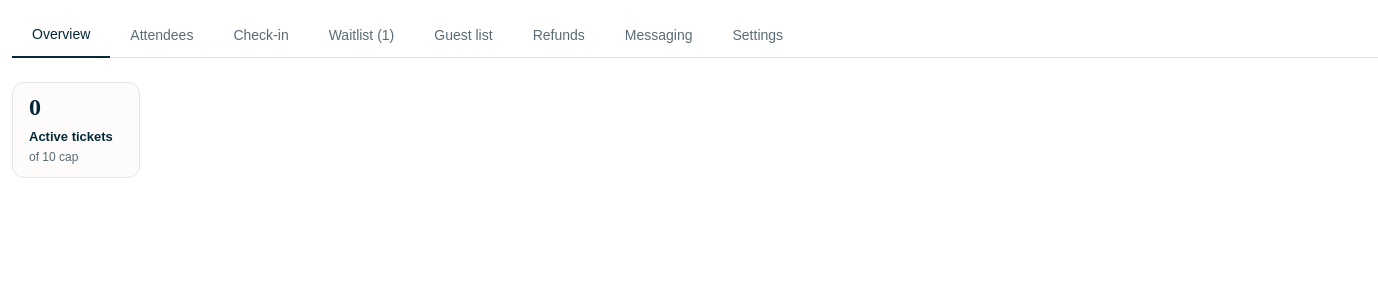
Scenario: ManageEventTabs — Waitlist tab: Offer / Resend › offers an offerable entry and shows the offered state after success
Click the button "Waitlist (1)".
click(362, 34)  # box [309,12,414,57]
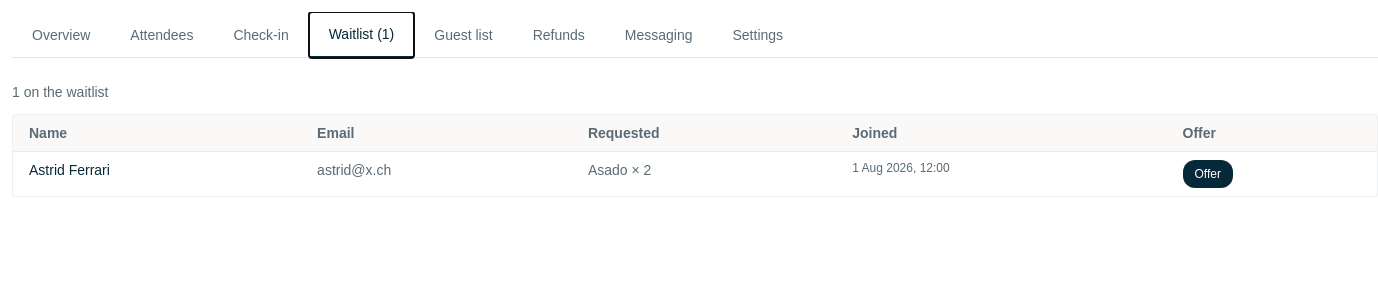
Click the button "Offer".
click(1208, 174)  # box [1182,160,1233,188]
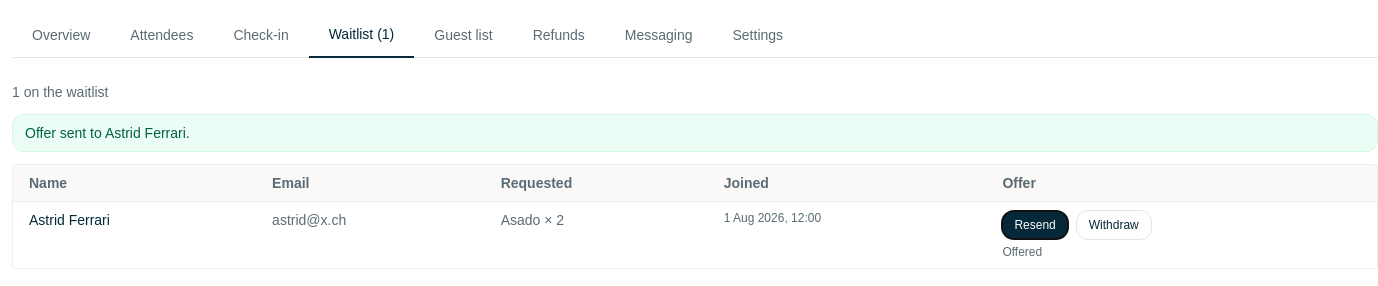
Check: the text "Offer sent to Astrid Ferrari." is shown, box [12,114,1377,152]
Check: the button "Resend" is shown, box [1002,211,1068,239]
Check: the button "Withdraw" is shown, box [1076,210,1152,240]
